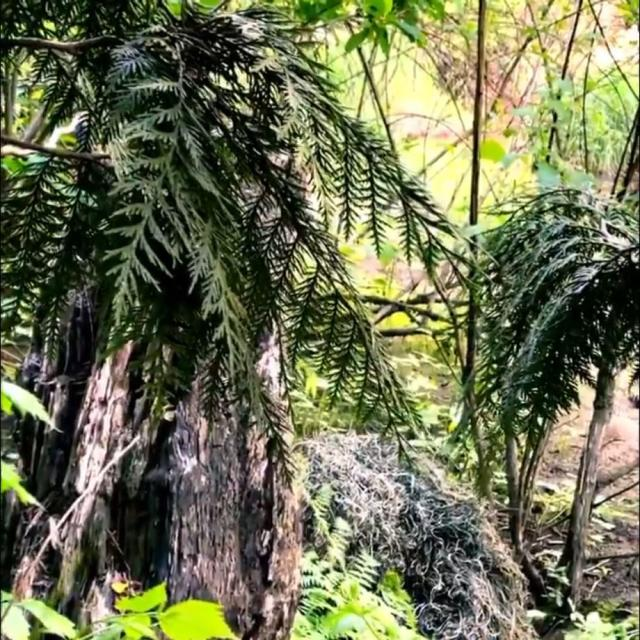human: (300, 431, 533, 639)
